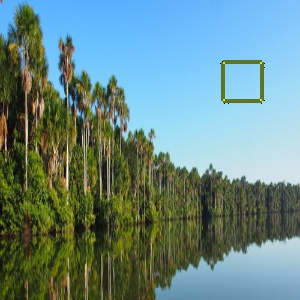square: (219, 58, 266, 105)
